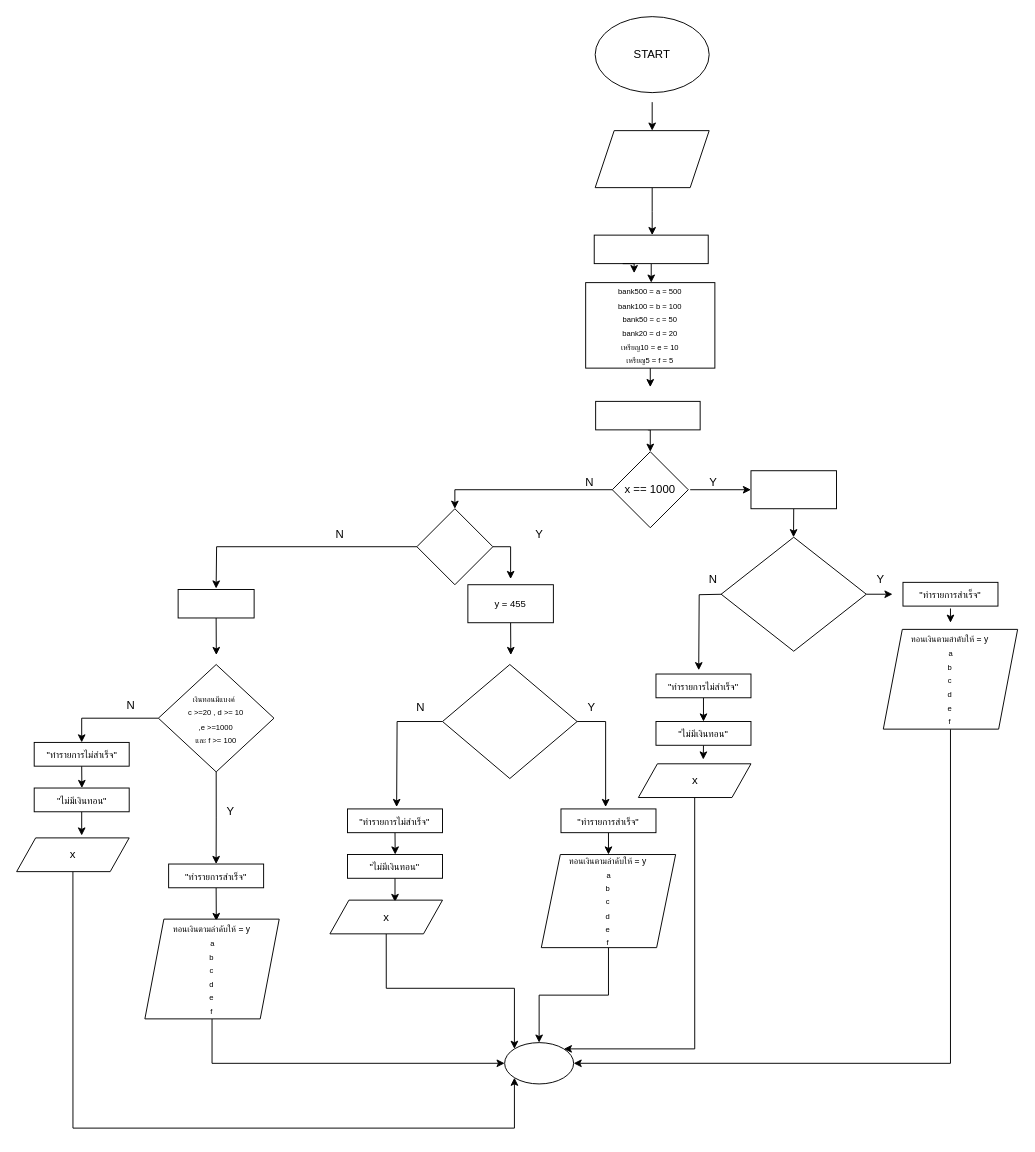
The diagram is 1035 pixels wide and 1152 high, and some of its shapes have lost their labels. The centre of each missing label's shape, as x and y in pixels:
"Input" belongs at point (651, 159).
"Input =x = int(x)" belongs at point (650, 249).
"STOP" belongs at point (539, 1063).
"x - 45 = y" belongs at point (215, 603).
"x == 500" belongs at point (454, 546).
"y = 955" belongs at point (793, 489).
"y = int y" belongs at point (647, 415).
"เงินทอนมีแบงค์ a >= 1 , b >=9 , c >=20 , d >= 10 ,e >=1000 และ f >= 100" belongs at point (793, 593).
"เงินทอนมีแบงค์ b >=4 , c >=20 , d >= 10 ,e >=1000 และ f >= 100" belongs at point (509, 721).
